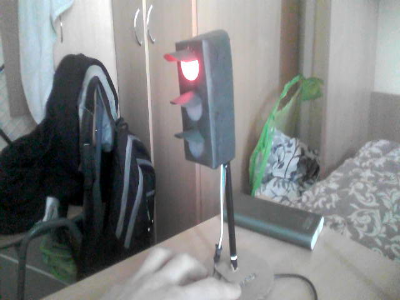trafficlight_red: (167, 43, 214, 161)
